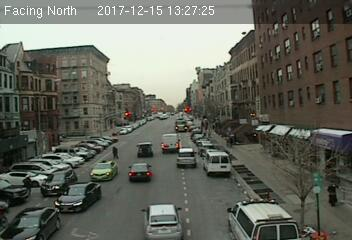car: (1, 206, 60, 240), (141, 202, 186, 240), (55, 182, 102, 212), (41, 169, 78, 196), (202, 150, 232, 177), (91, 161, 119, 181), (177, 147, 198, 169), (128, 162, 151, 182), (161, 132, 180, 154), (136, 141, 154, 156)
pedestrian: (326, 181, 340, 207), (112, 146, 120, 160)
police: (226, 197, 300, 240)
